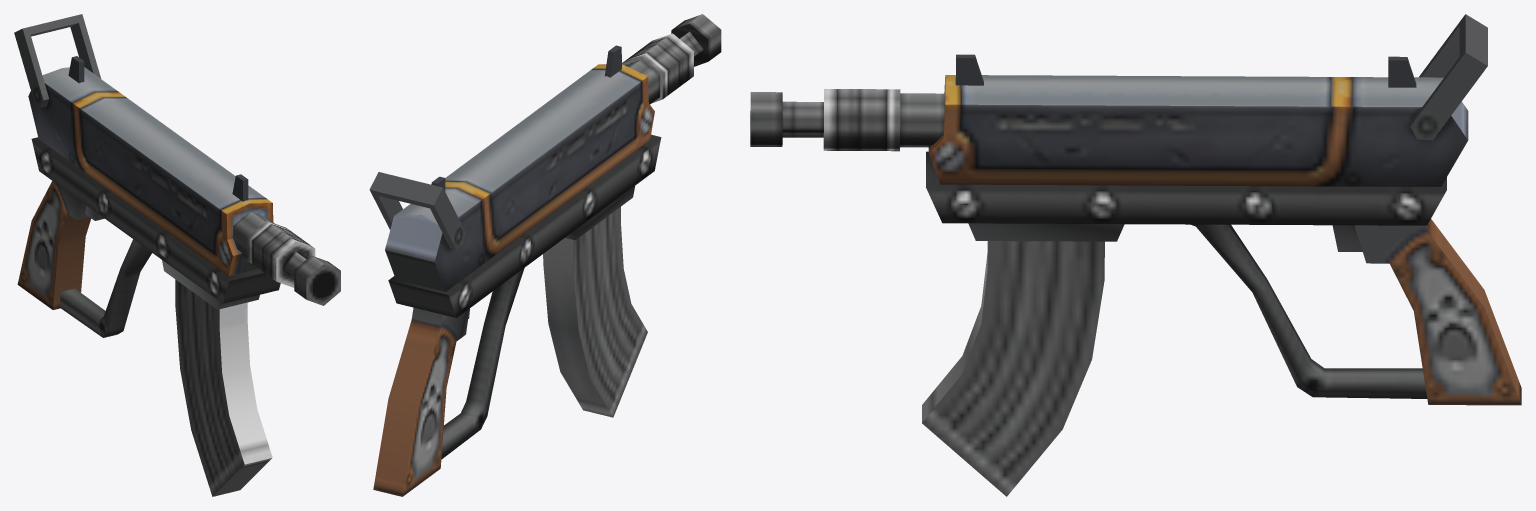
Rendered from Assault_rifle_02.fbx.
3 renders of one model, left to right at view 1: azimuth 30°, elevation 25°; view 2: azimuth 150°, elevation 25°; view 3: azimuth 270°, elevation 25°, orthographic. The views are drawn at different scales.
Visible parts, largest first — view 1: obj83; view 2: obj83; view 3: obj83.
Boxes of the visible parts, box(x1,y1,x2,y2) form: obj83: box(14, 14, 340, 496); obj83: box(369, 14, 721, 496); obj83: box(750, 14, 1521, 496).
Size of the model in its own units: 7.66 by 42.22 by 64.91.
